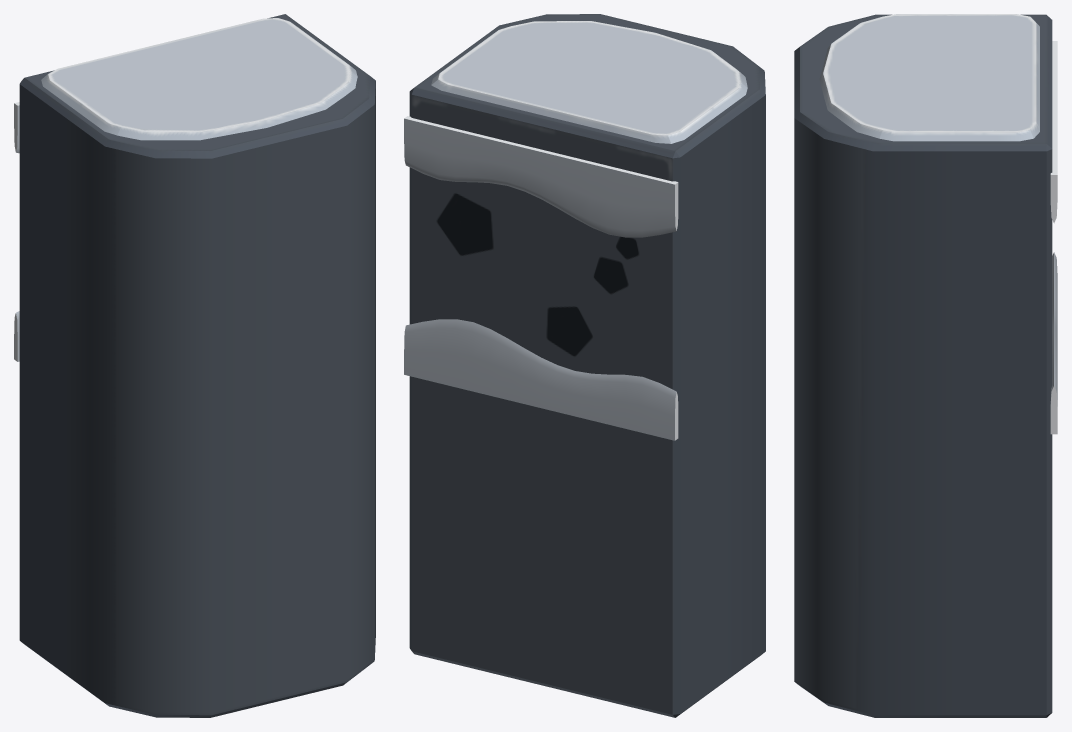
The model's file is S5_InF_Wall_001.fbx.
The picture shows the model from 3 angles, left to right: view 1: azimuth 30°, elevation 25°; view 2: azimuth 150°, elevation 25°; view 3: azimuth 270°, elevation 25°; orthographic projection.
Parts seen in each view (by area): view 1: wall16_pCube2; view 2: wall16_pCube2; view 3: wall16_pCube2.
Part boxes in pixels (x1,y1,x2,y2): wall16_pCube2: (14,14,375,717); wall16_pCube2: (404,14,765,717); wall16_pCube2: (794,14,1057,717).
Bounding box in the file's own units: 1 × 2.02 × 0.8313.
